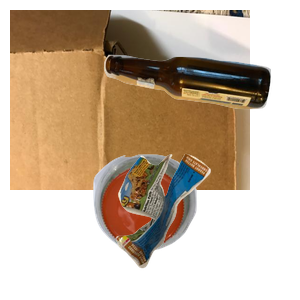cardboard: (10, 10, 250, 190)
glass: (101, 52, 300, 154)
plastic: (91, 152, 281, 300)
trash: (114, 151, 300, 300)
